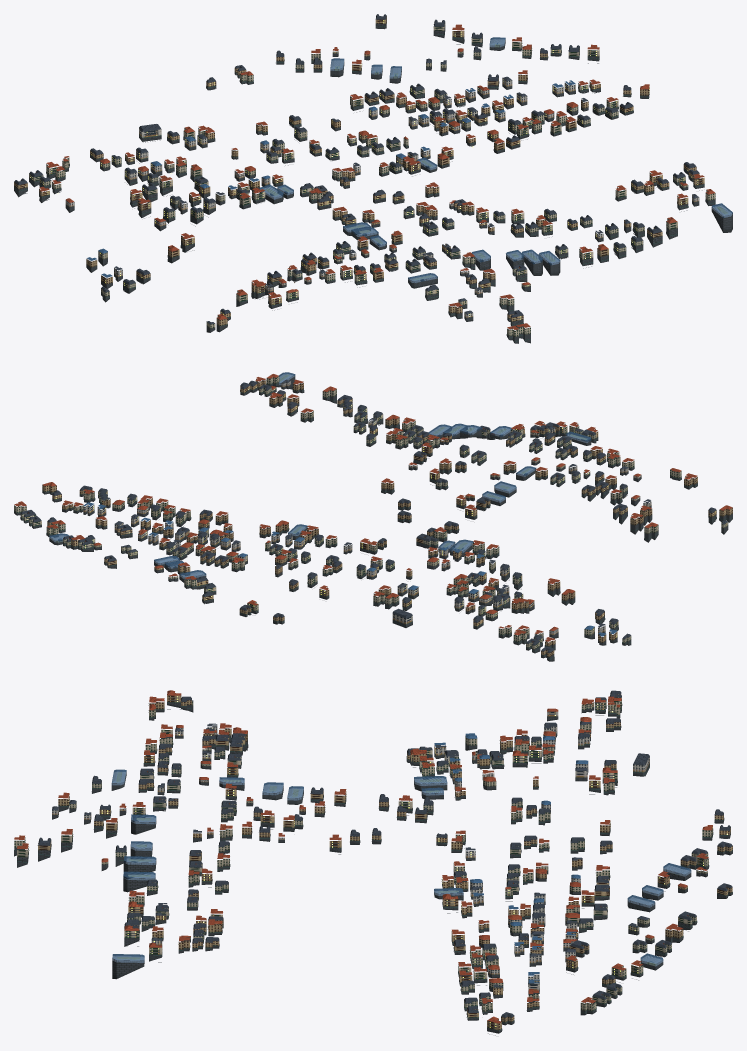
The model's file is osm_buildings_T_E02_N00_Q4.glb.
3 renders of one model, top to bottom at view 1: azimuth 30°, elevation 25°; view 2: azimuth 150°, elevation 25°; view 3: azimuth 270°, elevation 25°, orthographic. The views are drawn at different scales.
Visible parts, largest first — view 1: OSM_T_E02_N00_Q4_foundation, OSM_T_E02_N00_Q4_wall_cream_stucco, OSM_T_E02_N00_Q4_wall_french_ochre, OSM_T_E02_N00_Q4_roof_terracotta, OSM_T_E02_N00_Q4_roof_mansard_slate, OSM_T_E02_N00_Q4_greenhouse_blend, OSM_T_E02_N00_Q4_roof_mansard_deck, OSM_T_E02_N00_Q4_wall_warm_white, OSM_T_E02_N00_Q4_roof_mint_metal, OSM_T_E02_N00_Q4_balcony_railing, OSM_T_E02_N00_Q4_trim_cornice, OSM_T_E02_N00_Q4_wall_pastel_sand (+2 smaller); view 2: OSM_T_E02_N00_Q4_foundation, OSM_T_E02_N00_Q4_wall_cream_stucco, OSM_T_E02_N00_Q4_wall_french_ochre, OSM_T_E02_N00_Q4_roof_terracotta, OSM_T_E02_N00_Q4_roof_mansard_slate, OSM_T_E02_N00_Q4_greenhouse_blend, OSM_T_E02_N00_Q4_roof_mansard_deck, OSM_T_E02_N00_Q4_wall_warm_white, OSM_T_E02_N00_Q4_roof_mint_metal, OSM_T_E02_N00_Q4_trim_cornice, OSM_T_E02_N00_Q4_balcony_railing, OSM_T_E02_N00_Q4_roof_alpine_blue (+1 smaller); view 3: OSM_T_E02_N00_Q4_foundation, OSM_T_E02_N00_Q4_wall_cream_stucco, OSM_T_E02_N00_Q4_wall_french_ochre, OSM_T_E02_N00_Q4_roof_terracotta, OSM_T_E02_N00_Q4_roof_mansard_slate, OSM_T_E02_N00_Q4_greenhouse_blend, OSM_T_E02_N00_Q4_roof_mansard_deck, OSM_T_E02_N00_Q4_wall_warm_white, OSM_T_E02_N00_Q4_trim_cornice, OSM_T_E02_N00_Q4_roof_mint_metal, OSM_T_E02_N00_Q4_roof_alpine_blue, OSM_T_E02_N00_Q4_balcony_railing (+1 smaller).
Boxes of the visible parts, <box> form: OSM_T_E02_N00_Q4_foundation: <box>14,20,732,343</box>; OSM_T_E02_N00_Q4_wall_cream_stucco: <box>29,22,715,336</box>; OSM_T_E02_N00_Q4_wall_french_ochre: <box>14,16,704,326</box>; OSM_T_E02_N00_Q4_roof_terracotta: <box>36,24,714,329</box>; OSM_T_E02_N00_Q4_roof_mansard_slate: <box>14,14,699,324</box>; OSM_T_E02_N00_Q4_greenhouse_blend: <box>259,37,732,282</box>; OSM_T_E02_N00_Q4_roof_mansard_deck: <box>16,14,732,315</box>; OSM_T_E02_N00_Q4_wall_warm_white: <box>124,78,699,317</box>; OSM_T_E02_N00_Q4_roof_mint_metal: <box>14,26,715,341</box>; OSM_T_E02_N00_Q4_balcony_railing: <box>20,24,702,329</box>; OSM_T_E02_N00_Q4_trim_cornice: <box>27,26,712,334</box>; OSM_T_E02_N00_Q4_wall_pastel_sand: <box>65,82,603,294</box>; OSM_T_E02_N00_Q4_foundation: <box>14,376,732,661</box>; OSM_T_E02_N00_Q4_wall_cream_stucco: <box>14,376,728,649</box>; OSM_T_E02_N00_Q4_wall_french_ochre: <box>42,379,732,656</box>; OSM_T_E02_N00_Q4_roof_terracotta: <box>14,374,732,641</box>; OSM_T_E02_N00_Q4_roof_mansard_slate: <box>21,379,727,652</box>; OSM_T_E02_N00_Q4_greenhouse_blend: <box>49,372,591,579</box>; OSM_T_E02_N00_Q4_roof_mansard_deck: <box>22,380,714,650</box>; OSM_T_E02_N00_Q4_wall_warm_white: <box>97,381,641,624</box>; OSM_T_E02_N00_Q4_roof_mint_metal: <box>14,383,732,659</box>; OSM_T_E02_N00_Q4_trim_cornice: <box>15,376,728,653</box>; OSM_T_E02_N00_Q4_balcony_railing: <box>23,380,715,647</box>; OSM_T_E02_N00_Q4_roof_alpine_blue: <box>84,502,616,636</box>; OSM_T_E02_N00_Q4_foundation: <box>14,702,732,1033</box>; OSM_T_E02_N00_Q4_wall_cream_stucco: <box>14,697,712,1011</box>; OSM_T_E02_N00_Q4_wall_french_ochre: <box>38,694,732,1030</box>; OSM_T_E02_N00_Q4_roof_terracotta: <box>14,690,712,1023</box>; OSM_T_E02_N00_Q4_roof_mansard_slate: <box>38,691,732,1017</box>; OSM_T_E02_N00_Q4_greenhouse_blend: <box>111,769,691,966</box>; OSM_T_E02_N00_Q4_roof_mansard_deck: <box>39,690,730,1014</box>; OSM_T_E02_N00_Q4_wall_warm_white: <box>52,725,649,982</box>; OSM_T_E02_N00_Q4_trim_cornice: <box>17,697,731,1035</box>; OSM_T_E02_N00_Q4_roof_mint_metal: <box>14,702,732,1030</box>; OSM_T_E02_N00_Q4_roof_alpine_blue: <box>434,733,588,983</box>; OSM_T_E02_N00_Q4_balcony_railing: <box>25,697,728,1027</box>.
Size of the model in its own units: 996 by 146 by 930.
16 materials, 16 textured.
